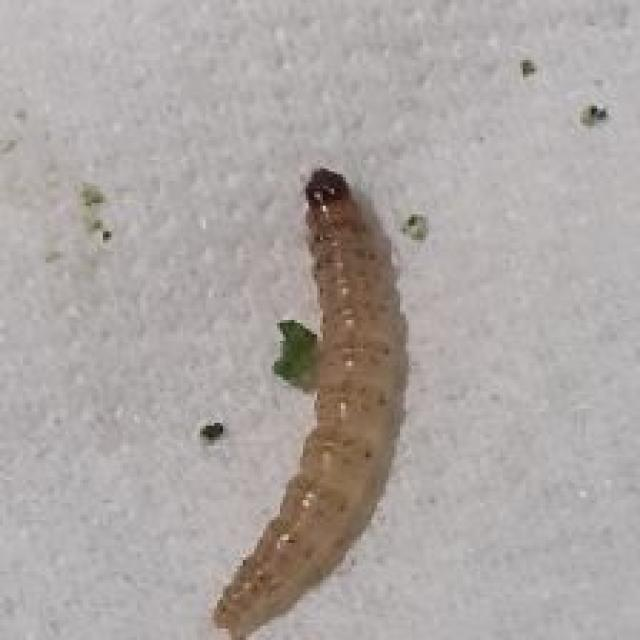white mucus: (179, 141, 433, 631)
